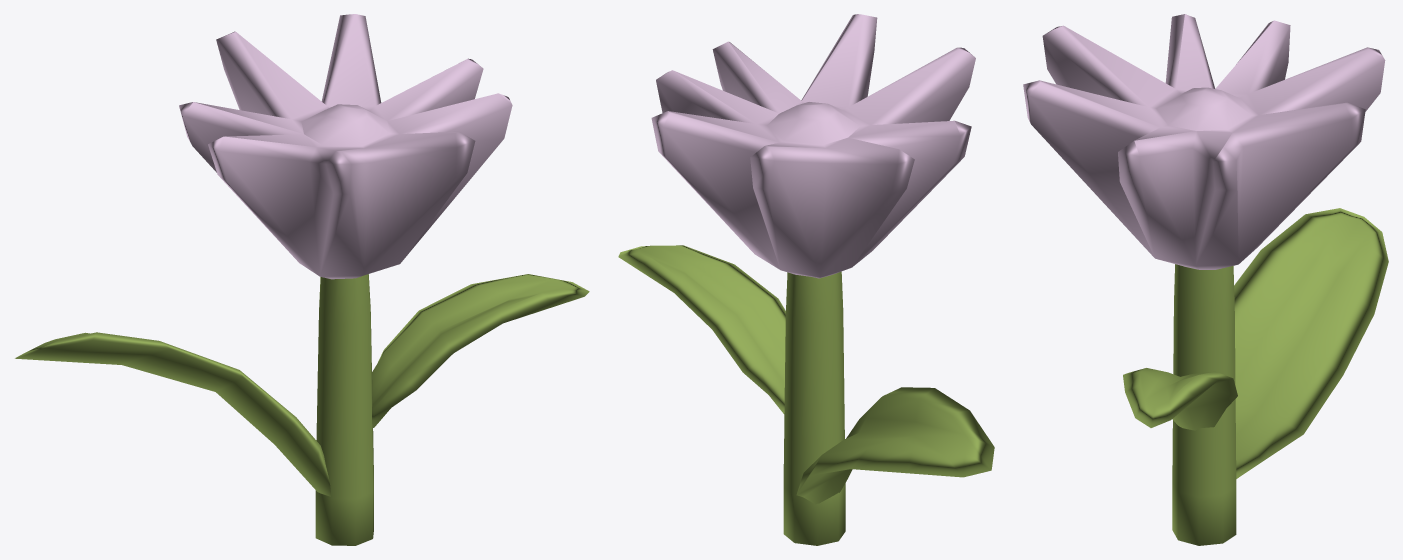
File: Flower_L.fbx
3 renders of one model, left to right at view 1: azimuth 30°, elevation 25°; view 2: azimuth 150°, elevation 25°; view 3: azimuth 270°, elevation 25°, orthographic. The views are drawn at different scales.
Visible parts, largest first — view 1: Flower_L; view 2: Flower_L; view 3: Flower_L.
Part boxes in pixels (left/top/right/bottom): Flower_L: left=15, top=14, right=589, bottom=545; Flower_L: left=618, top=14, right=994, bottom=545; Flower_L: left=1023, top=14, right=1388, bottom=545.
Bounding box in the file's own units: 12.51 × 11.4 × 8.07.
